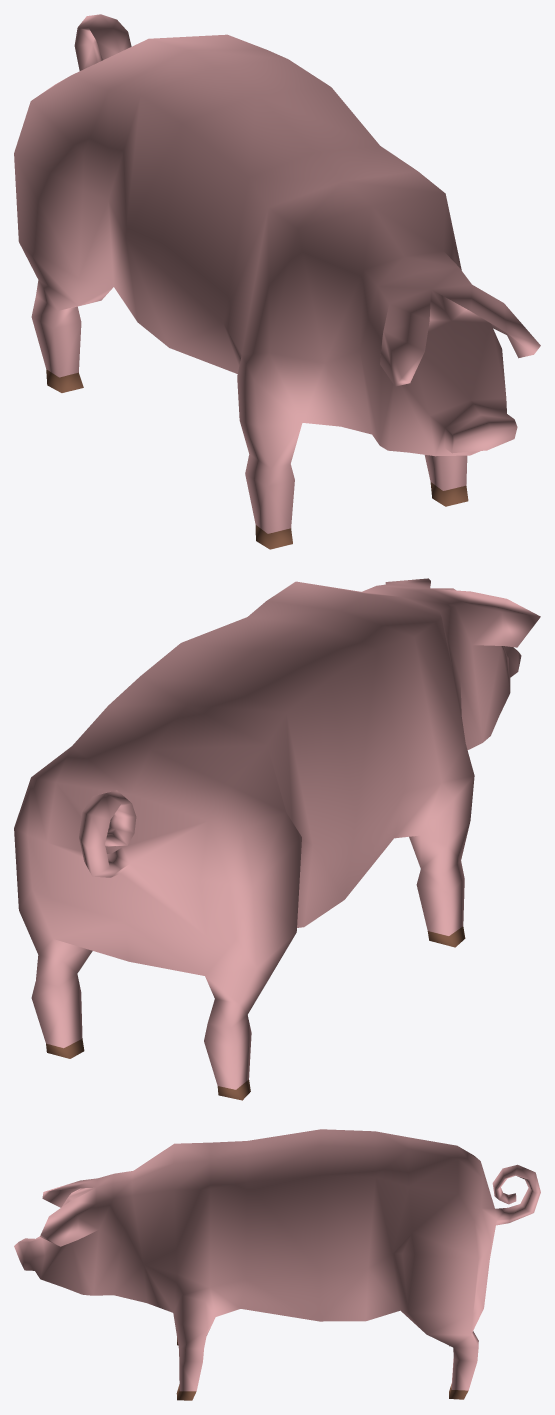
The model's file is Pig.gltf.
3 views of the same model, one above another, from view 1: azimuth 30°, elevation 25°; view 2: azimuth 150°, elevation 25°; view 3: azimuth 270°, elevation 25° (orthographic). The views are drawn at different scales.
Visible parts, largest first — view 1: Node1; view 2: Node1; view 3: Node1.
Boxes of the visible parts, bbox=[...] form: Node1: bbox=[14, 14, 540, 549]; Node1: bbox=[14, 578, 540, 1100]; Node1: bbox=[14, 1129, 540, 1400].
Bounding box in the file's own units: 3.3 × 4.58 × 9.77.
